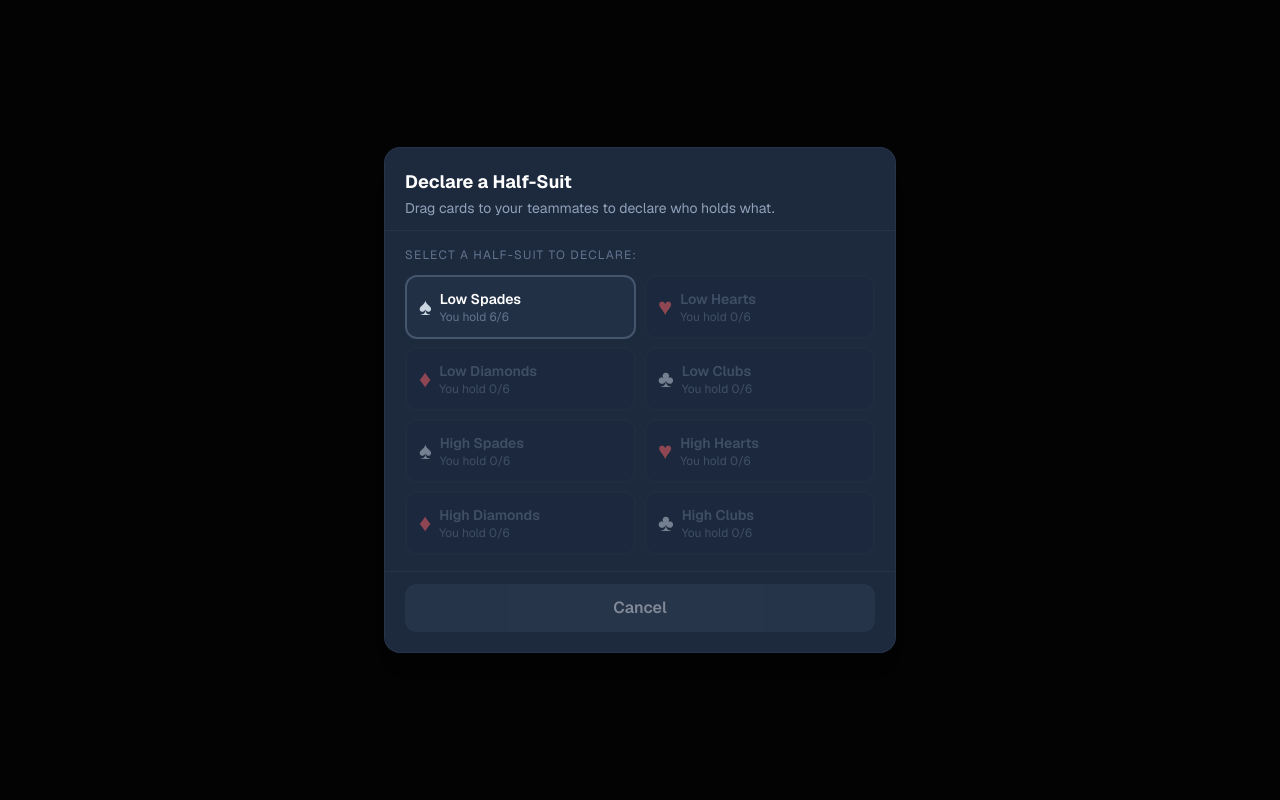
Scenario: DeclareModal — loading state › shows "Declaring…" label when isLoading
Step 1. Click the button "♠ Low Spades You hold 6/6" → (520, 307), box [405,275,636,339]
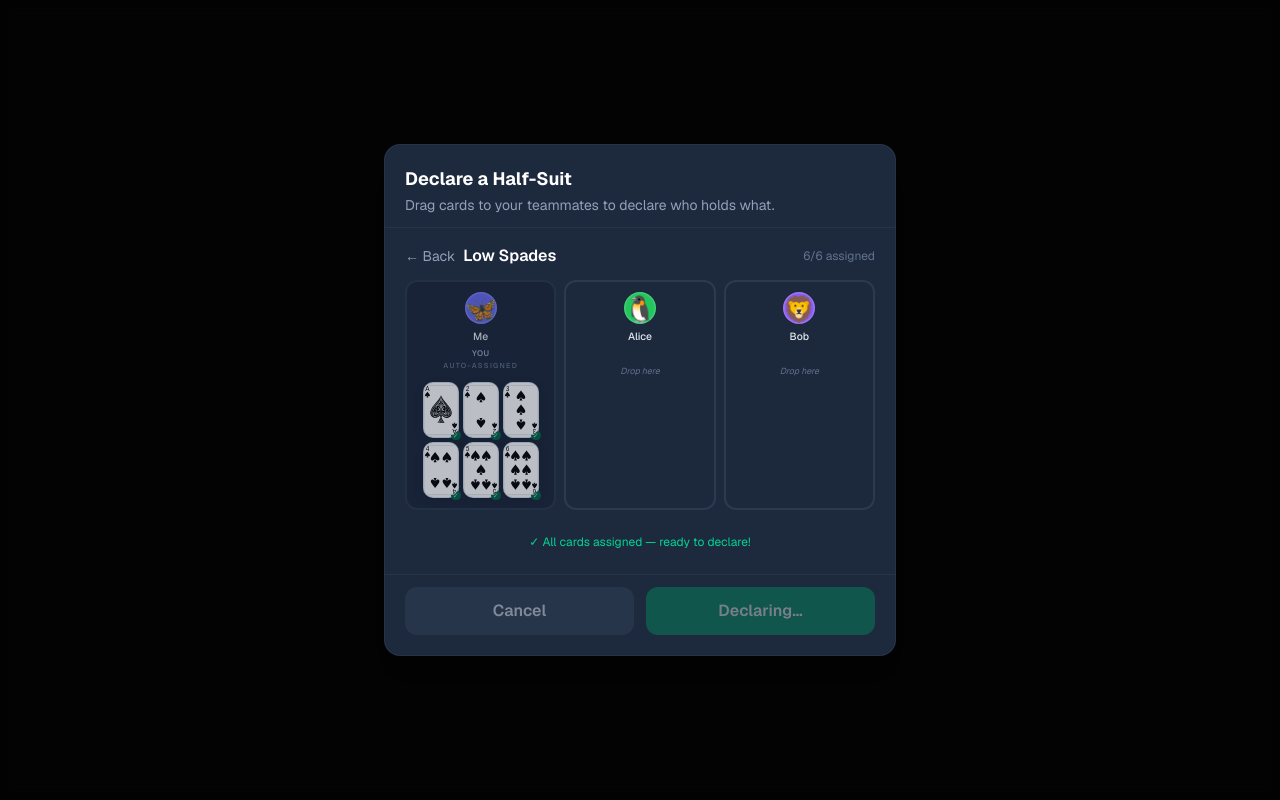
Expected: the button "Declaring…" is shown, [646,587,875,635]
